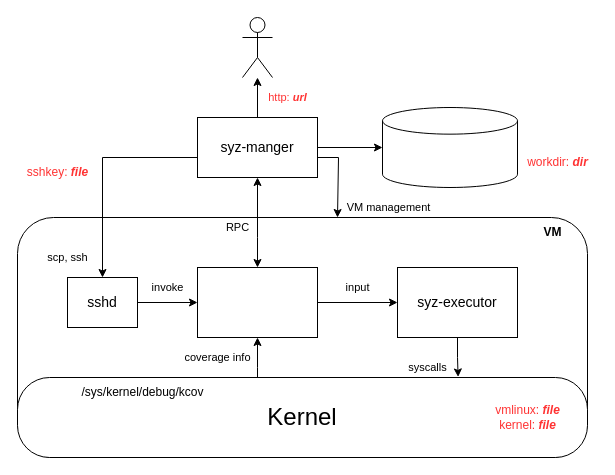
This 615x475 diagram has some shape labels left out. The centre of each missing label's shape, as x and y in pixels:
dir /crashes/crash N-T dir /corpus/*: pixel 450 147
syz-fuzzer: pixel 257 302
